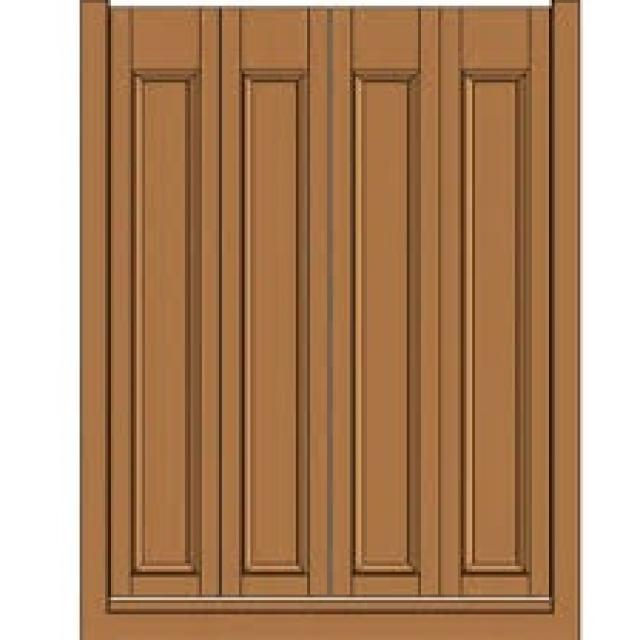door: (80, 1, 580, 638)
